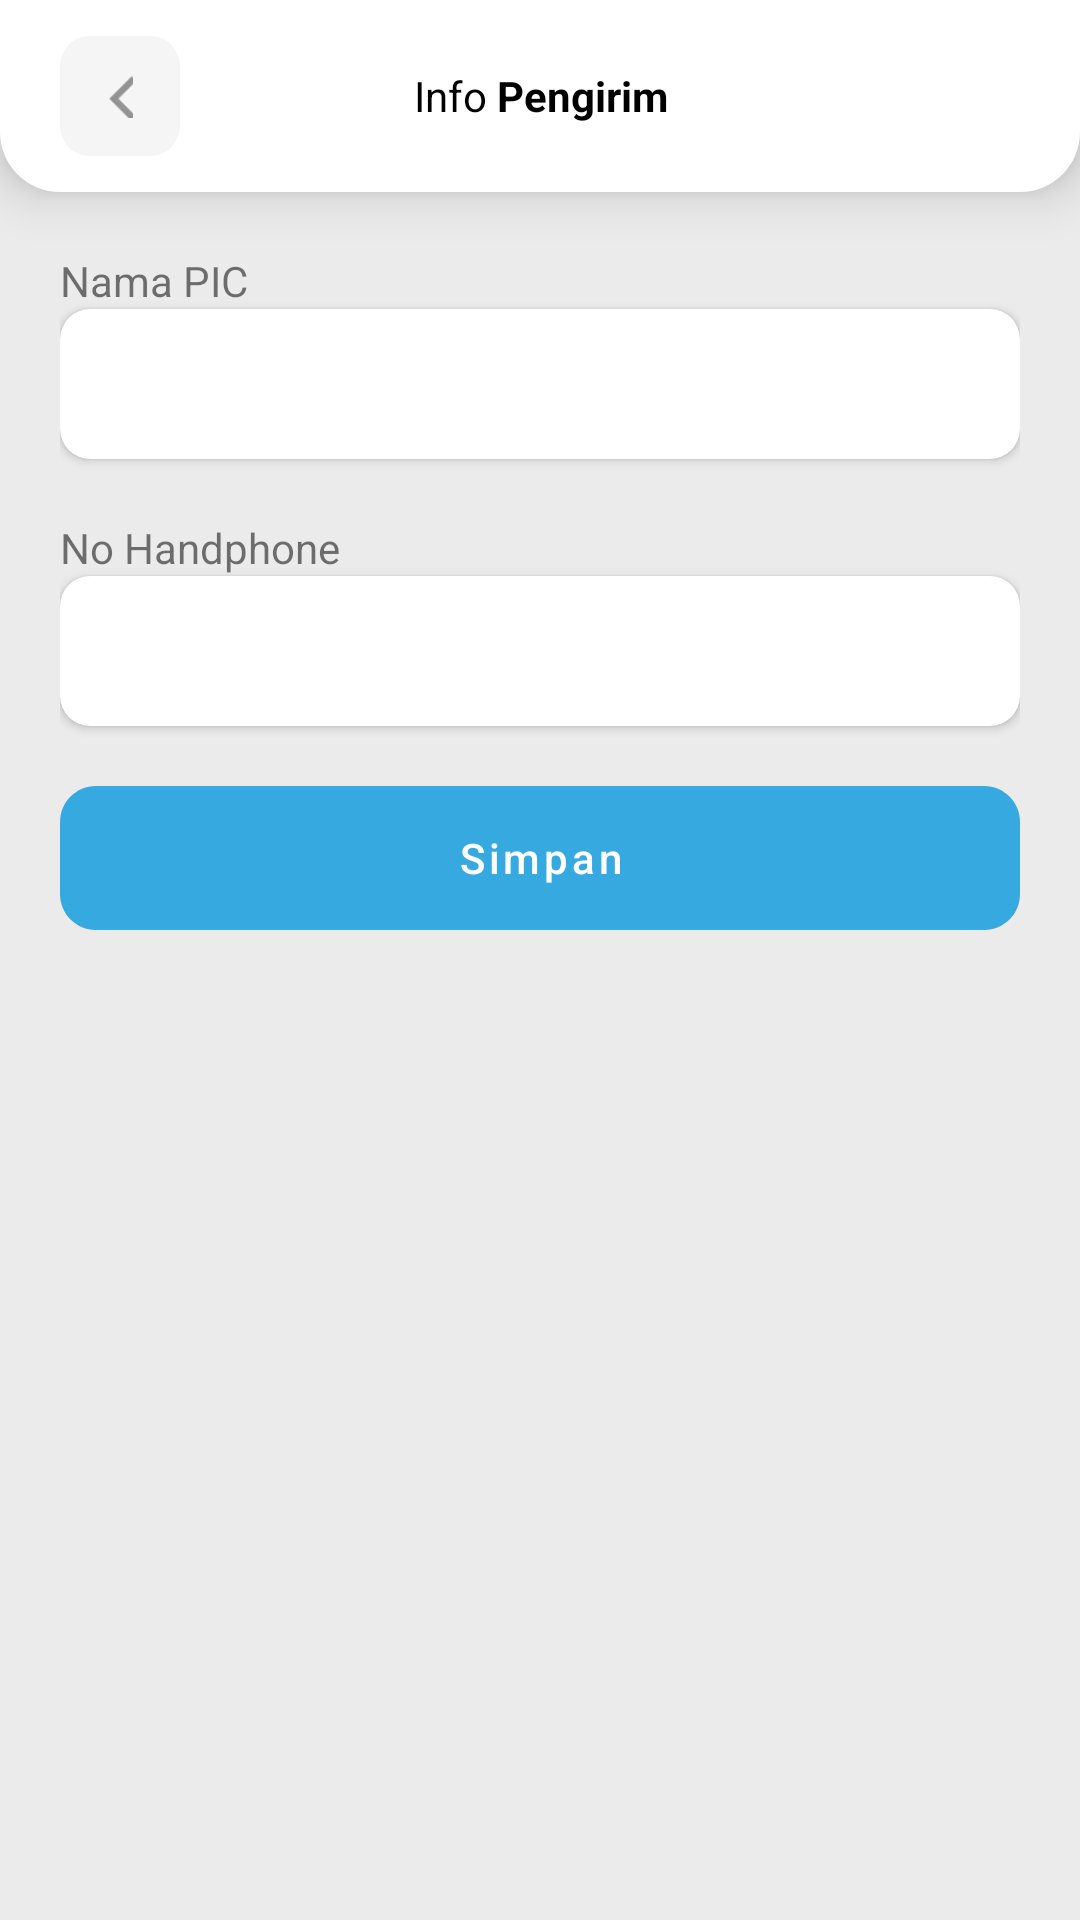

Icons on this 1080px x 1920px Android screen, each with its box as (x1, y1, x2, y2):
back: (110, 76, 133, 118)
